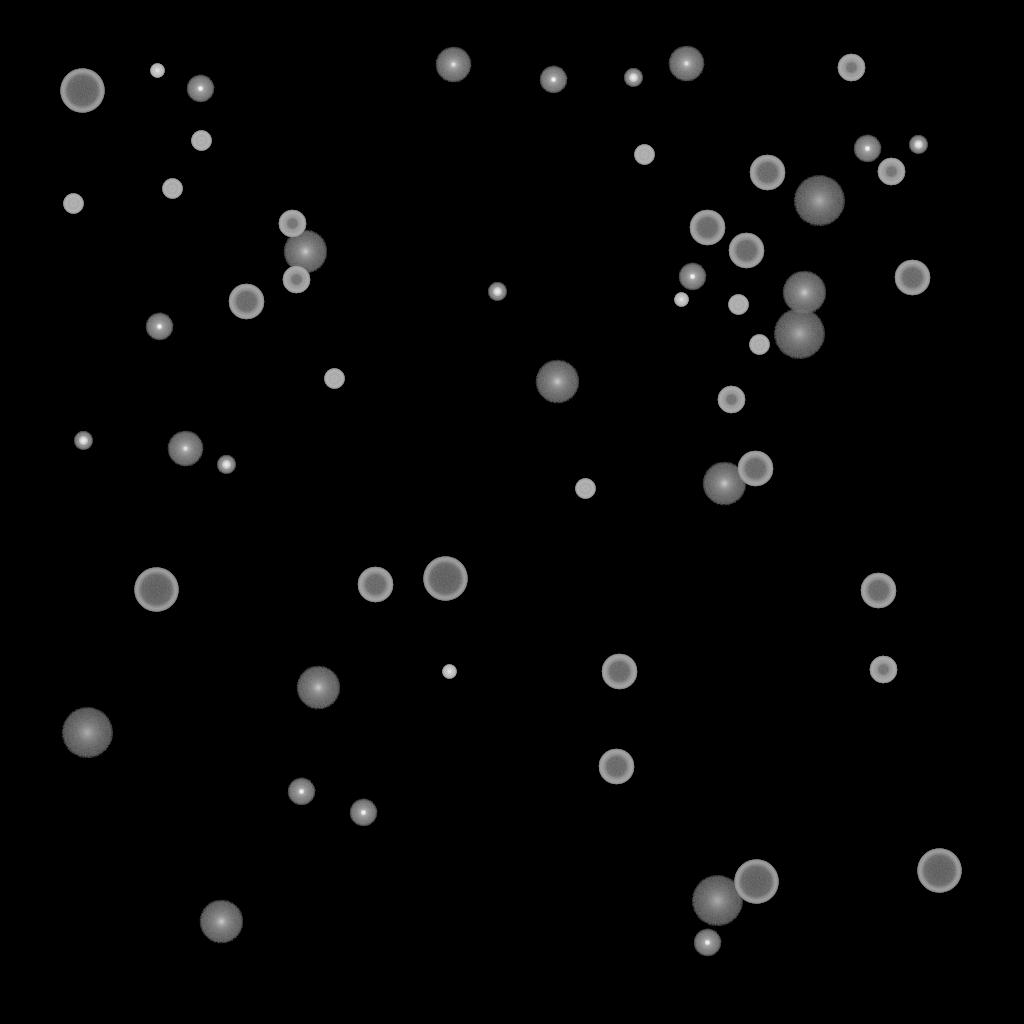depth:-10: (145, 313, 173, 341), (853, 135, 881, 163), (186, 75, 214, 103), (349, 799, 377, 827), (678, 263, 706, 291), (539, 66, 567, 94), (693, 929, 721, 957), (287, 778, 315, 806)
depth:-20: (74, 432, 92, 450), (217, 456, 235, 474), (488, 283, 506, 301), (624, 69, 642, 87), (909, 136, 927, 154)
depth:-30: (674, 293, 688, 307), (150, 64, 164, 78), (442, 665, 456, 679)
depth:-40: (728, 295, 748, 315), (575, 479, 595, 499), (63, 194, 83, 214), (191, 131, 211, 151), (324, 369, 344, 389), (634, 145, 654, 165), (749, 335, 769, 355), (162, 179, 182, 199)
depth:-50: (278, 210, 306, 238), (877, 158, 905, 186), (282, 266, 310, 294), (837, 54, 865, 82), (869, 656, 897, 684), (717, 386, 745, 414)
depth:-60: (228, 284, 264, 320), (728, 233, 764, 269), (860, 573, 896, 609), (598, 749, 634, 785), (601, 654, 637, 690), (689, 210, 725, 246), (357, 567, 393, 603), (737, 451, 773, 487), (749, 155, 785, 191), (894, 260, 930, 296)
depth:-70: (734, 860, 778, 904), (917, 849, 961, 893), (423, 557, 467, 601), (60, 69, 104, 113), (134, 568, 178, 612)
depth:0: (167, 431, 203, 467), (435, 47, 471, 83), (668, 46, 704, 82)
depth:10: (296, 666, 340, 710), (702, 462, 746, 506), (782, 271, 826, 315), (535, 360, 579, 404), (283, 230, 327, 274), (199, 900, 243, 944)
depth:20: (61, 708, 113, 758), (691, 876, 743, 926), (773, 309, 825, 359), (793, 176, 845, 226)
